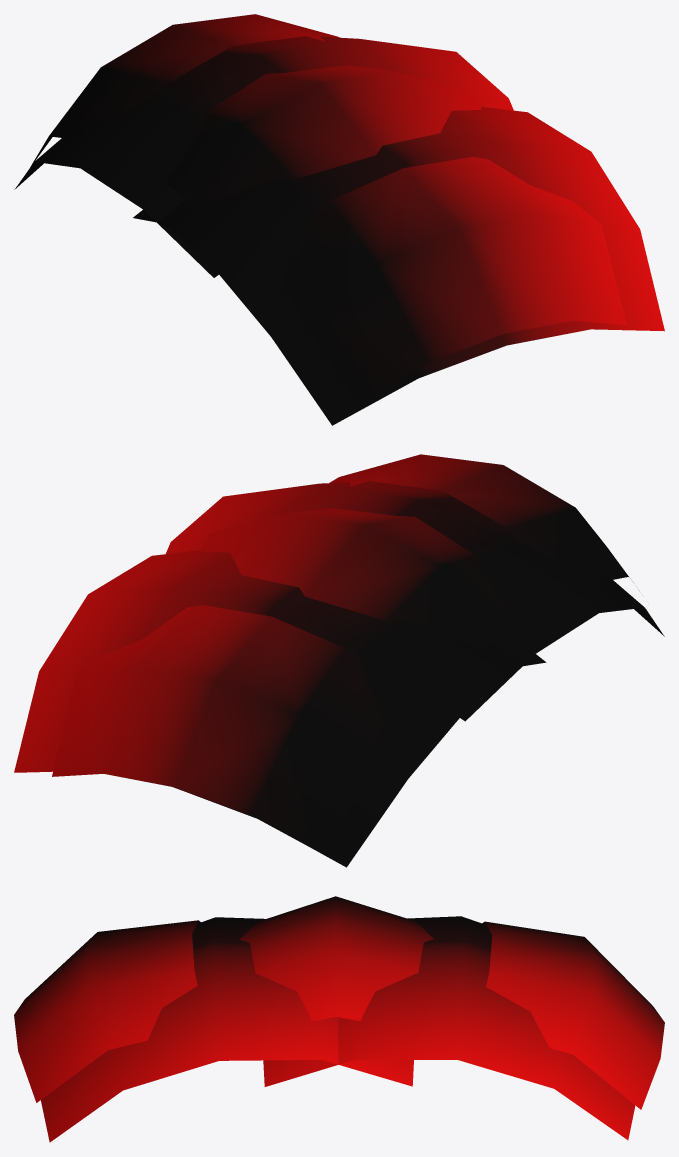
File: SM_Thatch_Clump_Big_A.fbx
3 views of the same model, one above another, from view 1: azimuth 30°, elevation 25°; view 2: azimuth 150°, elevation 25°; view 3: azimuth 270°, elevation 25° (orthographic). The views are drawn at different scales.
Parts seen in each view (by area): view 1: SM_Thatch_Clump_Big_A_LOD0; view 2: SM_Thatch_Clump_Big_A_LOD0; view 3: SM_Thatch_Clump_Big_A_LOD0.
Part boxes in pixels (x1=…): SM_Thatch_Clump_Big_A_LOD0: x1=14, y1=14, x2=664, y2=425; SM_Thatch_Clump_Big_A_LOD0: x1=14, y1=454, x2=664, y2=867; SM_Thatch_Clump_Big_A_LOD0: x1=14, y1=896, x2=664, y2=1142.
Bounding box in the file's own units: 132 × 223 × 64.1.
